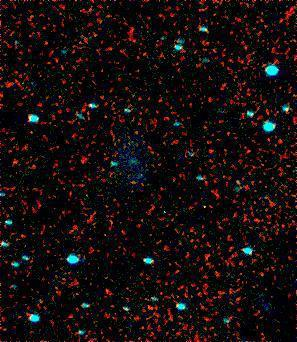star: (93, 278, 123, 308)
